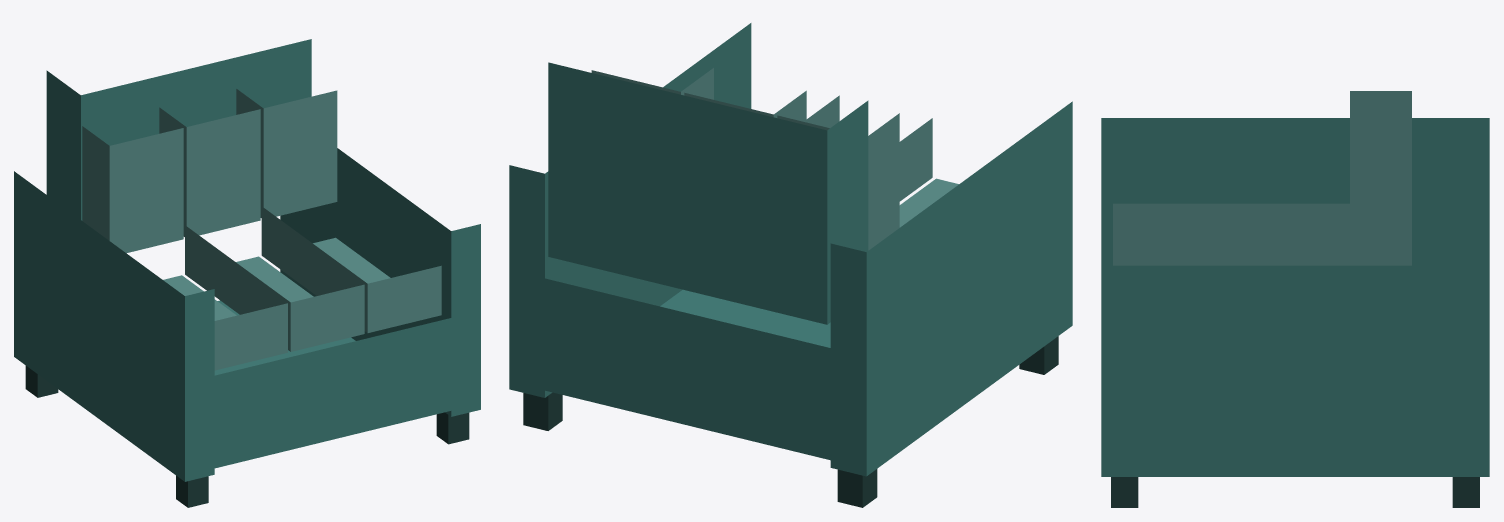
Rendered from Sofa-teal.glb.
3 views of the same model, side by side, from view 1: azimuth 30°, elevation 25°; view 2: azimuth 150°, elevation 25°; view 3: azimuth 270°, elevation 25° (orthographic). The views are drawn at different scales.
Visible parts, largest first — view 1: Sofa; view 2: Sofa; view 3: Sofa.
Boxes of the visible parts, left/top/right/bottom form: Sofa: left=14, top=39, right=480, bottom=507; Sofa: left=509, top=23, right=1072, bottom=507; Sofa: left=1101, top=91, right=1489, bottom=507.
Size of the model in its own units: 1 by 1 by 1.
